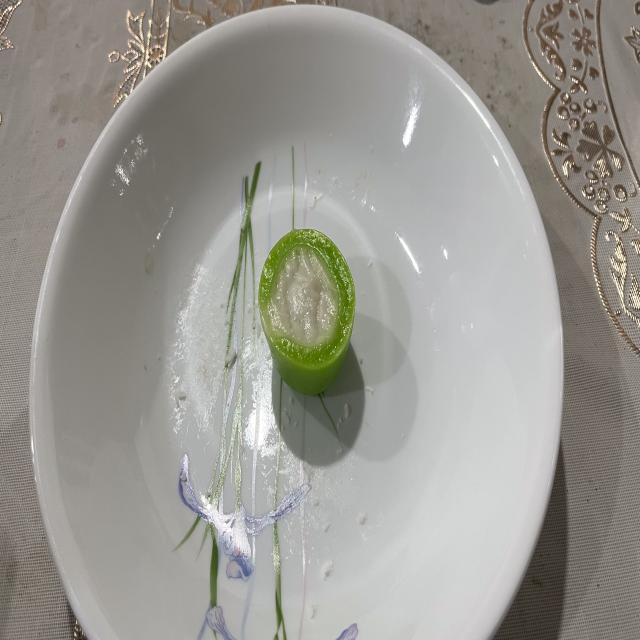nona-manis: (259, 229, 355, 396)
